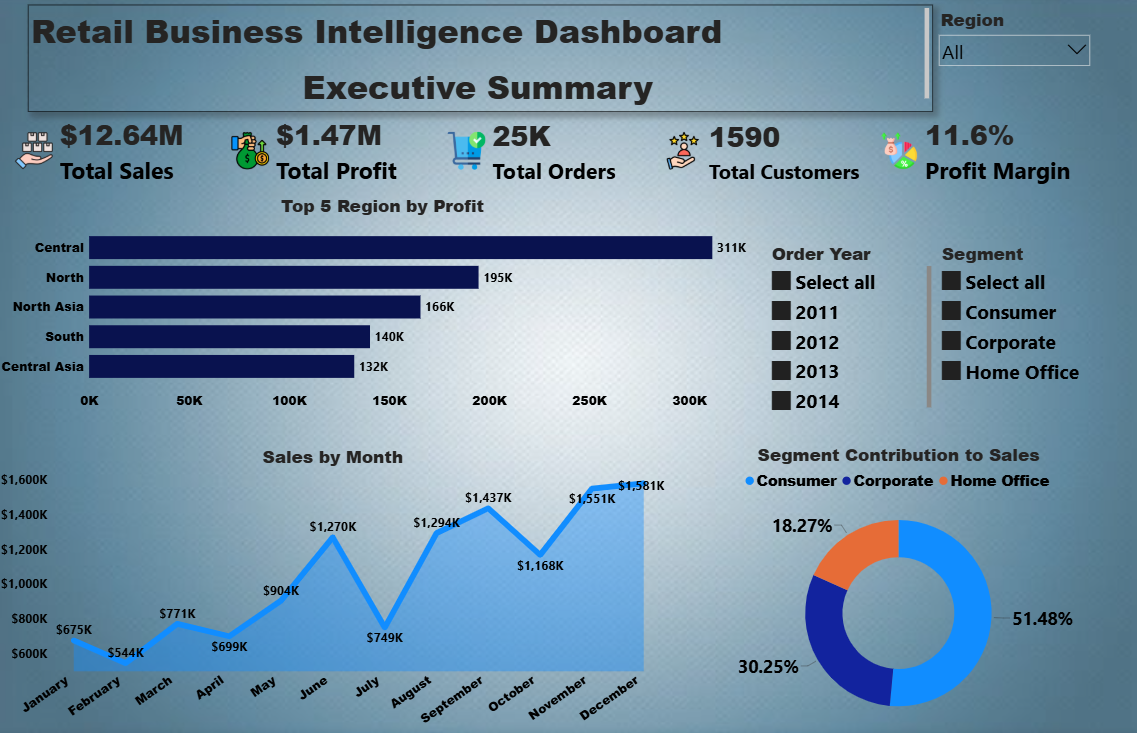

What the dashboard file says about the page in this screenshot:
{"tool":"powerbi","page":{"name":"Page 1","canvas":[2000,1300],"ordinal":0},"visuals":[{"type":"lineChart","title":"Sales by Month","fields":{"Category":["cleaned_data.Order Date.Variation.Date Hierarchy.Month"],"Y":["Sum(cleaned_data.Sales)"]},"box":[0,790,1166.7,510],"z":0},{"type":"donutChart","title":"Segment Contribution to Sales","fields":{"Series":["cleaned_data.Segment"],"Y":["Sum(cleaned_data.Sales)"]},"box":[1140,786.7,860,513.3],"z":1000},{"type":"barChart","title":"Top 5 Region by Profit","fields":{"Category":["cleaned_data.Region"],"Y":["Sum(cleaned_data.Profit)"]},"box":[0,353.3,1340,386.7],"z":2000},{"type":"textbox","box":[53.3,23.3,1576.7,186.7],"z":3000},{"type":"slicer","fields":{"Values":["cleaned_data.Region"]},"box":[1630,23.3,283.3,186.7],"z":4000},{"type":"slicer","fields":{"Values":["cleaned_data.Order Year"]},"box":[1334.6,430.8,296.1,311.5],"z":5000},{"type":"slicer","fields":{"Values":["cleaned_data.Segment"]},"box":[1630.8,430.8,326.9,311.5],"z":6000},{"type":"cardVisual","fields":{"Data":["cleaned_data.Total Sales","cleaned_data.Total Profit","cleaned_data.Total Orders","cleaned_data.Total Customers","cleaned_data.Profit Margin"]},"box":[0,161.5,1915.4,234.6],"z":7000}]}

Visuals, with their boxes in screenshot pixels (x1, y1, x2, y2), scaled from the page's 2000x1300 canvas onto the 1137x733 screenshot:
"Sales by Month" lineChart: BBox(0, 445, 663, 732)
"Segment Contribution to Sales" donutChart: BBox(648, 444, 1136, 732)
"Top 5 Region by Profit" barChart: BBox(0, 199, 762, 417)
textbox: BBox(30, 13, 927, 118)
slicer - cleaned_data.Region: BBox(927, 13, 1088, 118)
slicer - cleaned_data.Order Year: BBox(759, 243, 927, 419)
slicer - cleaned_data.Segment: BBox(927, 243, 1113, 419)
cardVisual - cleaned_data.Total Sales x cleaned_data.Total Profit: BBox(0, 91, 1089, 223)
